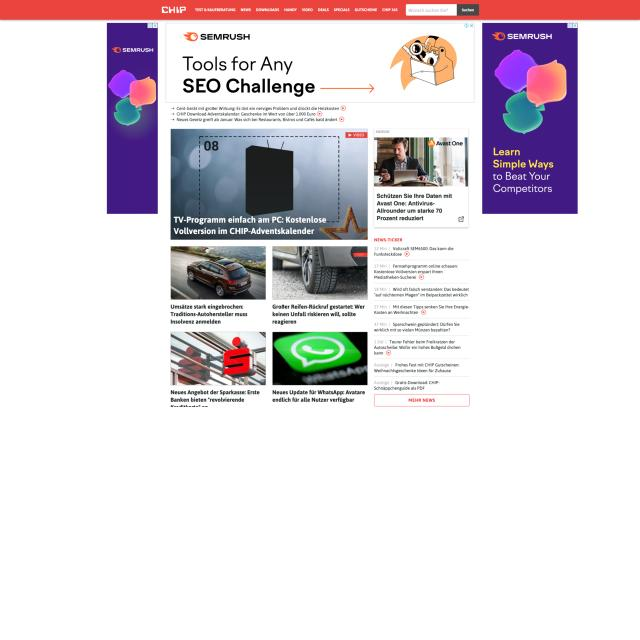input: (406, 4, 457, 16)
logo: (161, 5, 187, 15)
navigation: (193, 7, 399, 13)
